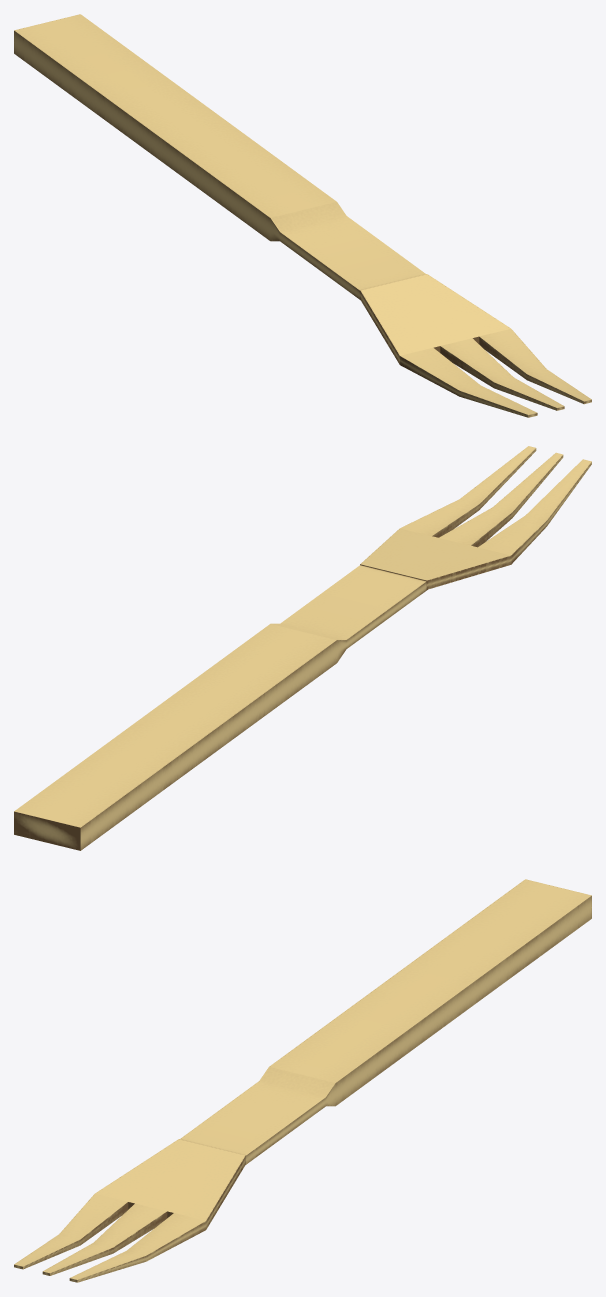
The model's file is fbx_Garfo.fbx.
The picture shows the model from 3 angles, top to bottom: view 1: azimuth 30°, elevation 25°; view 2: azimuth 150°, elevation 25°; view 3: azimuth 330°, elevation 25°; orthographic projection.
Parts seen in each view (by area): view 1: pCube247; view 2: pCube247; view 3: pCube247.
Part boxes in pixels (left/top/right/bottom): pCube247: left=14, top=14, right=591, bottom=417; pCube247: left=14, top=446, right=591, bottom=850; pCube247: left=14, top=879, right=591, bottom=1282.
Bounding box in the file's own units: 0.0251 × 0.00654 × 0.2.
Materials: 1 (1 with a texture image).
